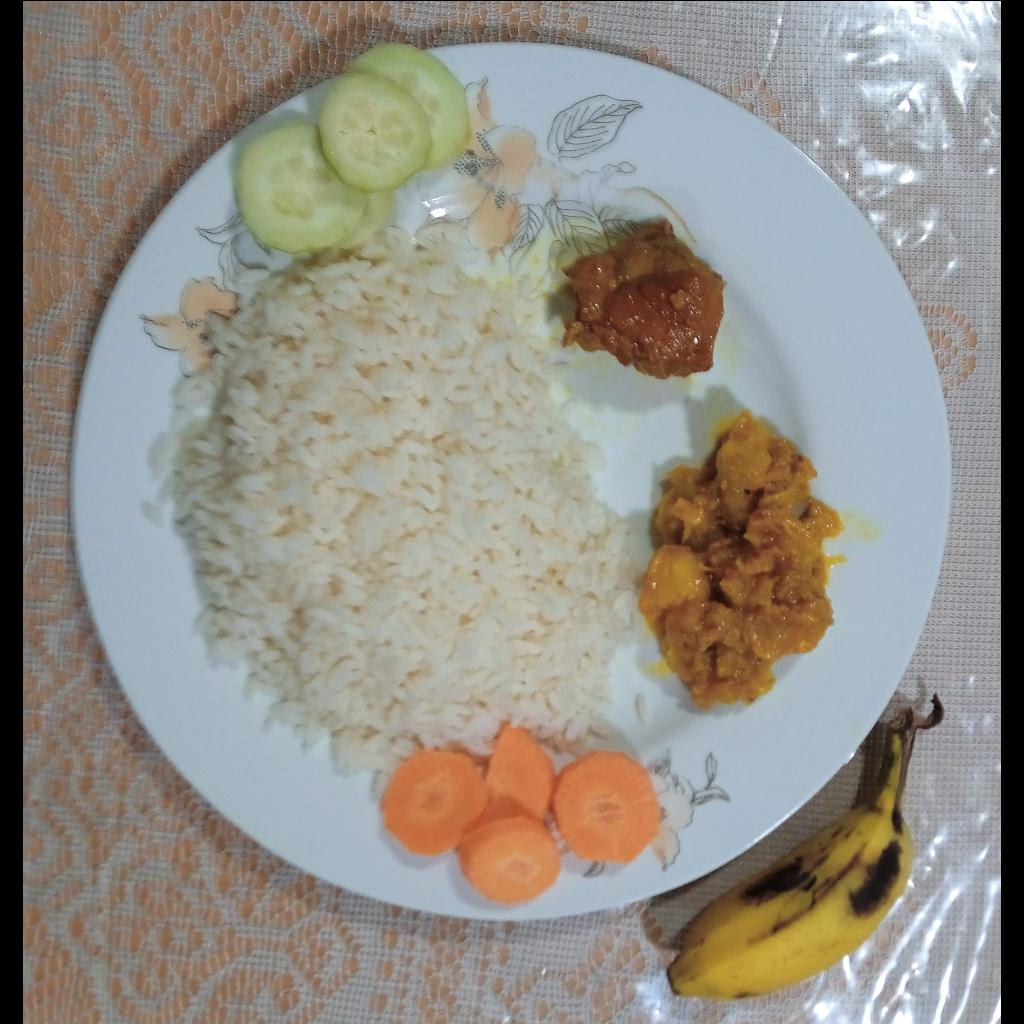banana: (667, 725, 919, 1002)
carrot: (381, 726, 662, 907)
chicken: (564, 220, 724, 378)
cucumber: (238, 41, 474, 255)
kumra-vaji: (640, 409, 842, 709)
rice: (143, 237, 638, 808)
